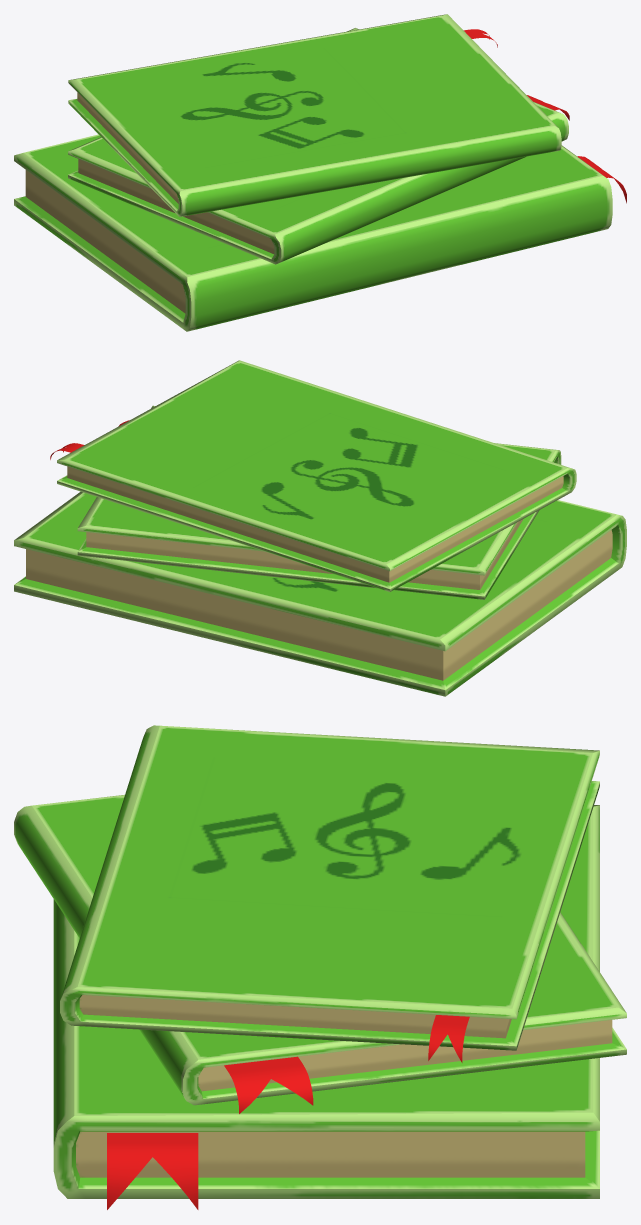
Rendered from Parent_Run_Lullaby_Musicbook.fbx.
The picture shows the model from 3 angles, top to bottom: view 1: azimuth 30°, elevation 25°; view 2: azimuth 150°, elevation 25°; view 3: azimuth 270°, elevation 25°; orthographic projection. The views are drawn at different scales.
Visible parts, largest first — view 1: Book5, Book4, Book3; view 2: Book5, Book4, Book3; view 3: Book5, Book4, Book3.
Boxes of the visible parts, box(x1,y1,x2,y2) form: Book5: box(68, 14, 561, 216); Book4: box(14, 134, 626, 331); Book3: box(68, 28, 569, 264); Book5: box(50, 360, 576, 591); Book4: box(14, 491, 626, 696); Book3: box(77, 405, 561, 599); Book5: box(60, 725, 599, 1062); Book4: box(53, 805, 599, 1209); Book3: box(14, 794, 626, 1113).
Bounding box in the file's own units: 167 × 40.45 × 127.
